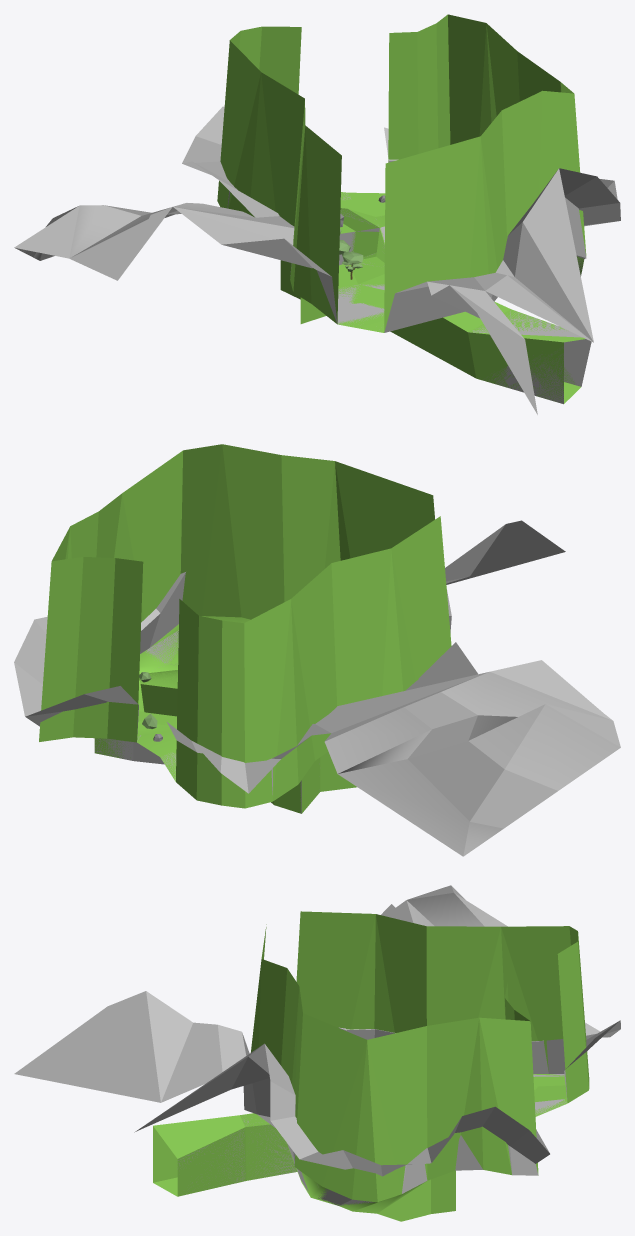
The picture shows the model from 3 angles, top to bottom: view 1: azimuth 30°, elevation 25°; view 2: azimuth 150°, elevation 25°; view 3: azimuth 270°, elevation 25°; orthographic projection. The views are drawn at different scales.
Visible parts, largest first — view 1: simple, level13; view 2: simple, level13; view 3: simple, level13.
Boxes of the visible parts, left/top/right/bottom form: simple: left=217, top=14, right=586, bottom=403; level13: left=14, top=106, right=620, bottom=414; simple: left=39, top=444, right=451, bottom=813; level13: left=14, top=520, right=620, bottom=856; simple: left=153, top=911, right=589, bottom=1221; level13: left=14, top=885, right=620, bottom=1205.
Bounding box in the file's own units: 136 × 57.23 × 141.
